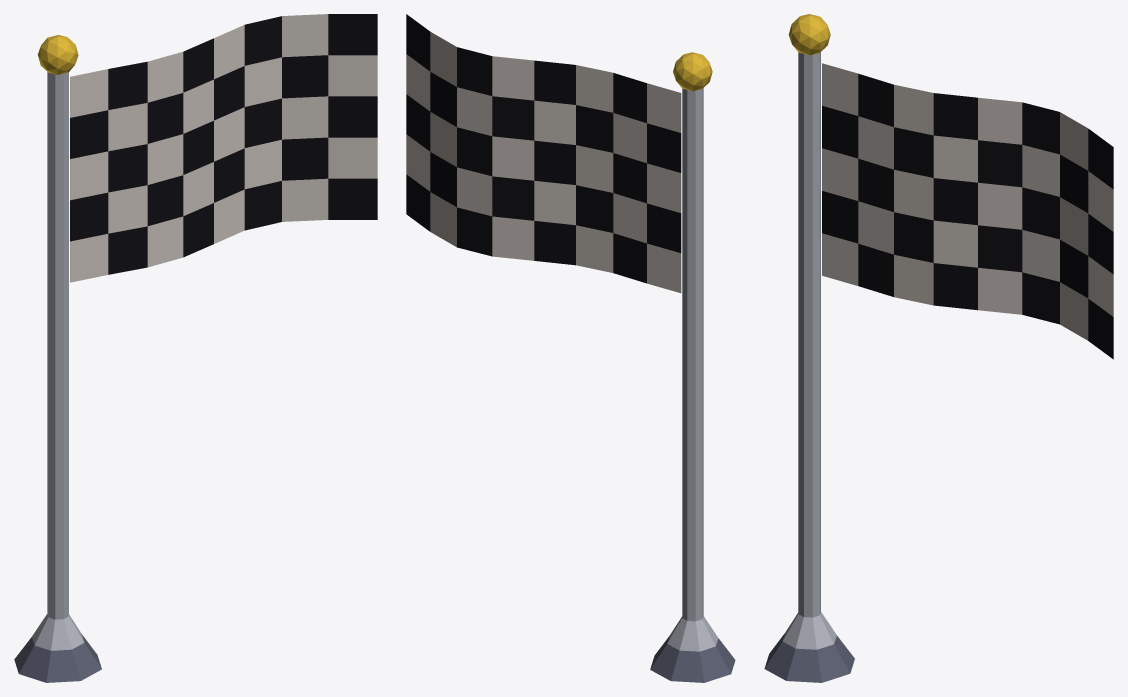
The model's file is flag_pole.glb.
3 renders of one model, left to right at view 1: azimuth 30°, elevation 25°; view 2: azimuth 150°, elevation 25°; view 3: azimuth 330°, elevation 25°, orthographic. The views are drawn at different scales.
Parts seen in each view (by area): view 1: flag_pole; view 2: flag_pole; view 3: flag_pole.
Boxes of the visible parts, <box> form: flag_pole: <box>14,14,377,682</box>; flag_pole: <box>406,14,735,682</box>; flag_pole: <box>764,14,1113,682</box>.
Size of the model in its own units: 0.88 by 1.52 by 0.2.
